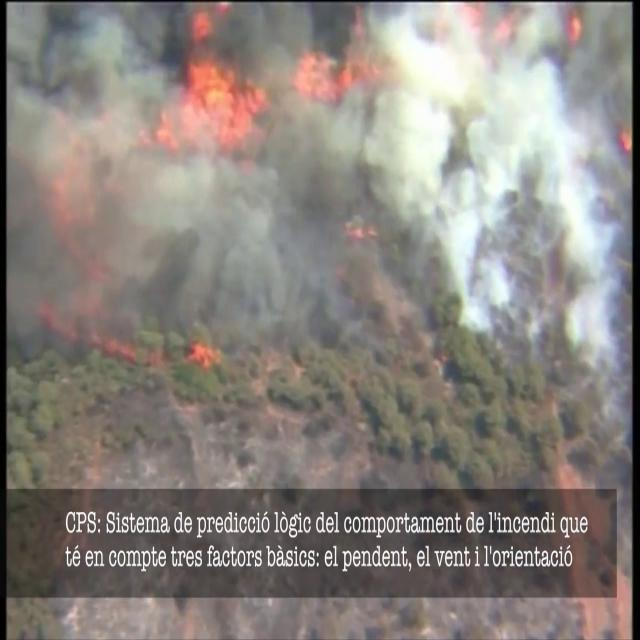Fire: (160, 8, 262, 160)
Smoke: (33, 1, 625, 320)
